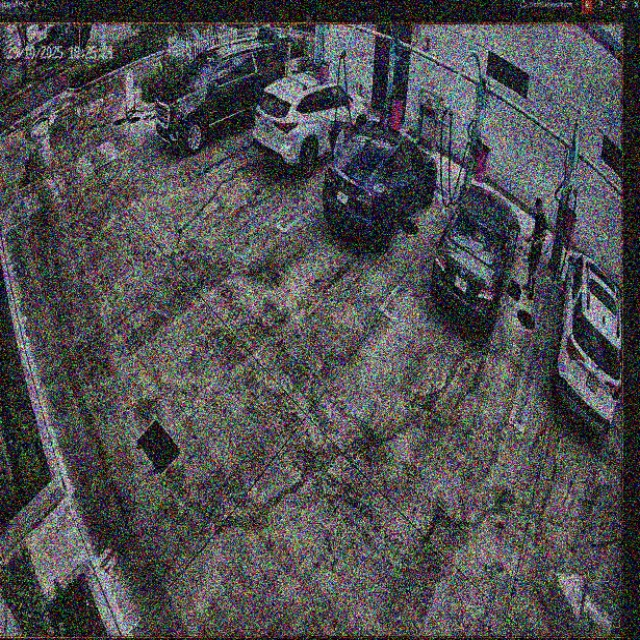Car: (323, 121, 437, 253), (433, 184, 520, 332), (254, 70, 369, 179)
